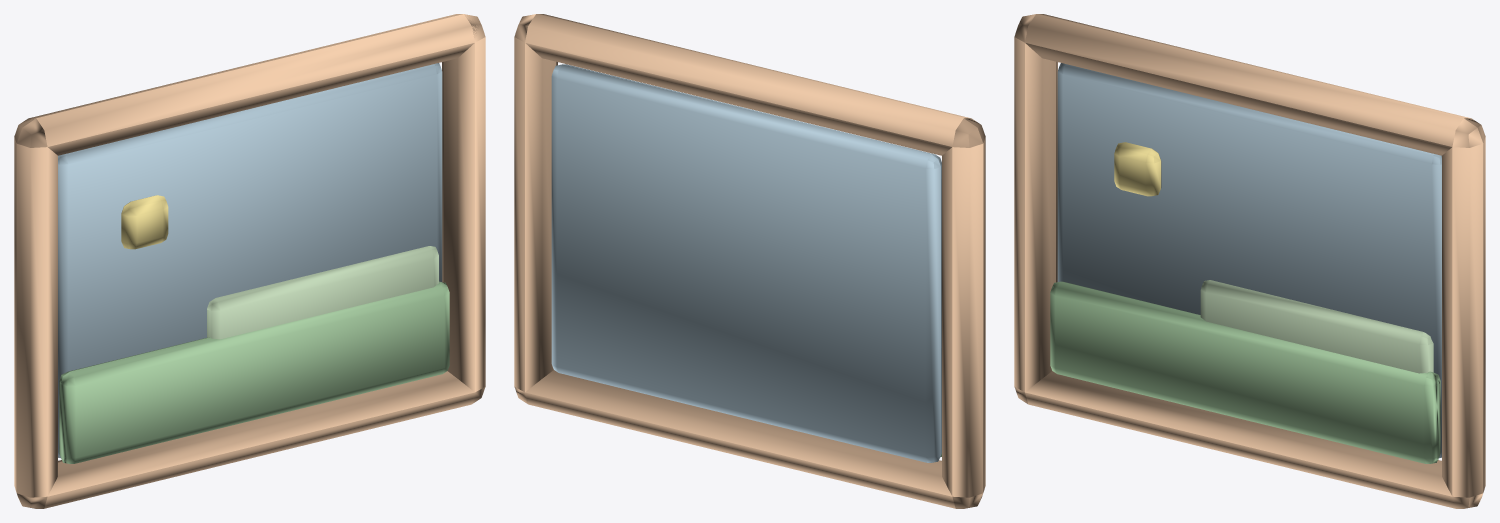
File: frame.glb
The picture shows the model from 3 angles, left to right: view 1: azimuth 30°, elevation 25°; view 2: azimuth 150°, elevation 25°; view 3: azimuth 330°, elevation 25°; orthographic projection.
Visible parts, largest first — view 1: frame_paint_sky, frame_paint_hill, frame_pframe_top, frame_pframe_bottom, frame_pframe_left, frame_pframe_right, frame_paint_far_hill, frame_paint_sun; view 2: frame_paint_sky, frame_pframe_top, frame_pframe_bottom, frame_pframe_left, frame_pframe_right; view 3: frame_paint_sky, frame_paint_hill, frame_pframe_top, frame_pframe_bottom, frame_pframe_right, frame_pframe_left, frame_paint_far_hill, frame_paint_sun.
Part boxes in pixels (x1,y1,x2,y2): frame_paint_sky: [58, 63, 442, 458]; frame_paint_hill: [59, 281, 449, 463]; frame_pframe_top: [23, 14, 479, 155]; frame_pframe_bottom: [17, 371, 485, 508]; frame_pframe_left: [14, 118, 57, 497]; frame_pframe_right: [442, 14, 485, 392]; frame_paint_far_hill: [207, 246, 438, 339]; frame_paint_sun: [121, 195, 168, 249]; frame_paint_sky: [551, 64, 941, 462]; frame_pframe_top: [525, 14, 970, 155]; frame_pframe_bottom: [514, 370, 982, 508]; frame_pframe_left: [942, 118, 985, 497]; frame_pframe_right: [514, 14, 557, 400]; frame_paint_sky: [1057, 63, 1441, 458]; frame_paint_hill: [1050, 281, 1440, 463]; frame_pframe_top: [1025, 14, 1470, 155]; frame_pframe_bottom: [1014, 371, 1482, 508]; frame_pframe_right: [1442, 118, 1485, 497]; frame_pframe_left: [1014, 14, 1057, 400]; frame_paint_far_hill: [1200, 280, 1433, 373]; frame_paint_sun: [1114, 142, 1161, 196].
Bounding box in the file's own units: 1 × 0.8 × 0.084.
